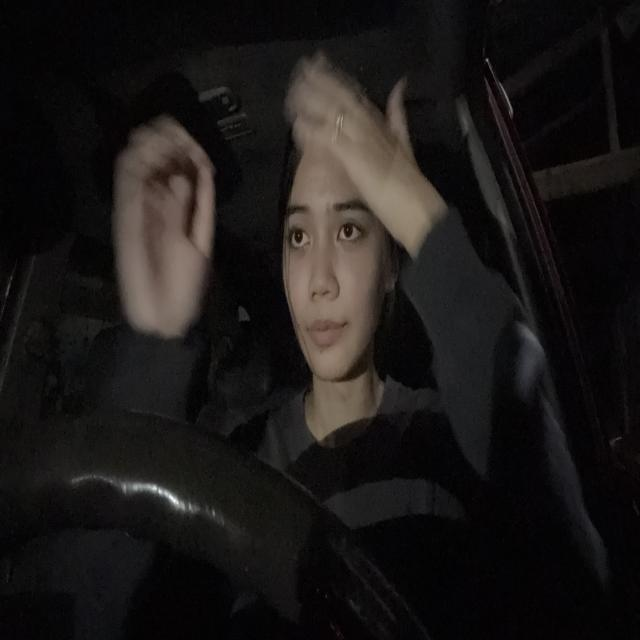open: (326, 192, 376, 258), (282, 198, 310, 263)
